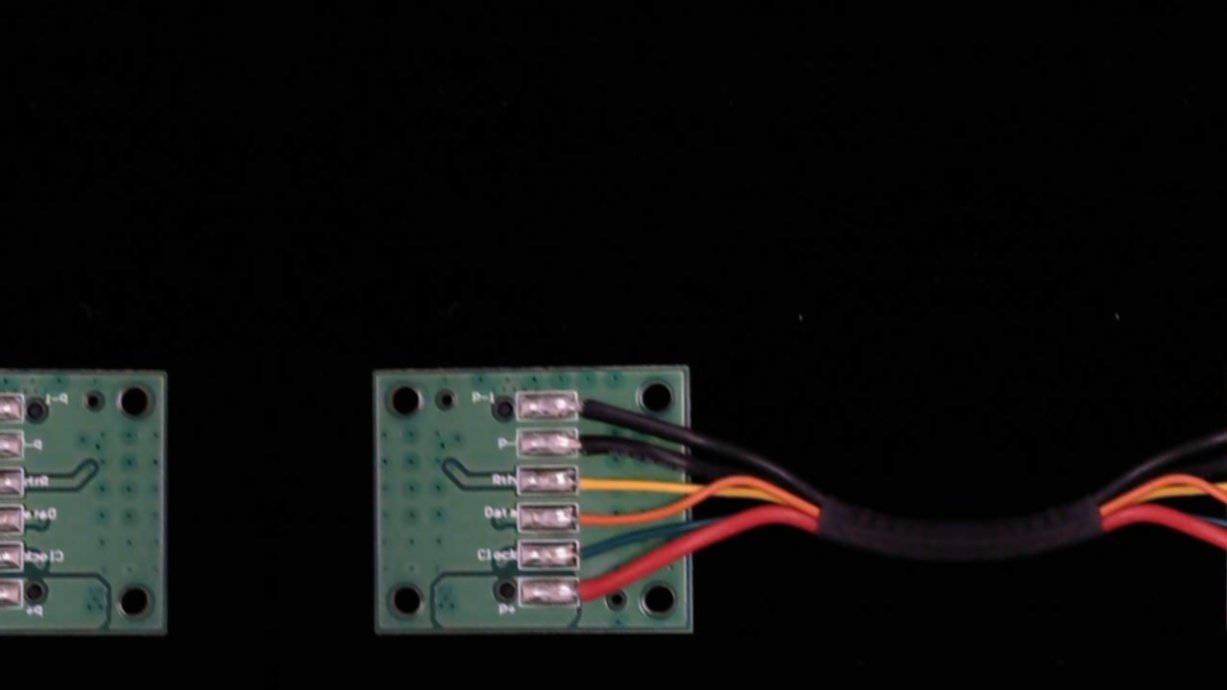Black: (559, 428, 623, 457)
Black1: (559, 391, 617, 419)
Green: (560, 541, 619, 570)
Orange: (560, 505, 620, 532)
Red: (564, 576, 631, 606)
Yellow: (558, 467, 625, 494)
